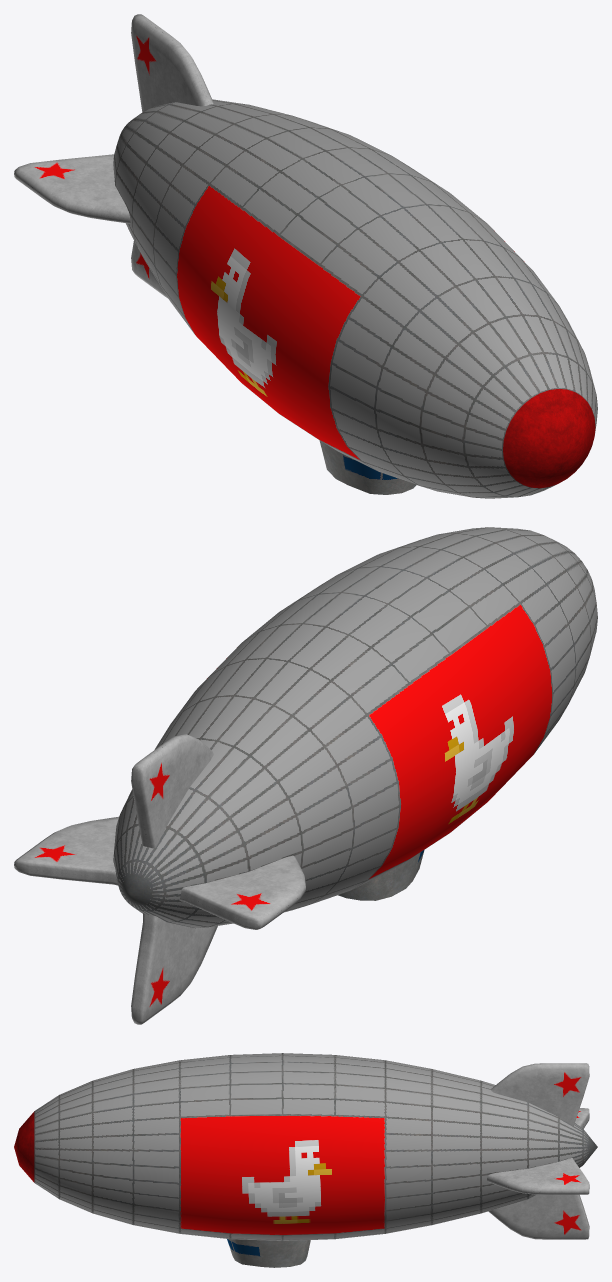
File: blimp.obj
3 views of the same model, one above another, from view 1: azimuth 30°, elevation 25°; view 2: azimuth 150°, elevation 25°; view 3: azimuth 270°, elevation 25° (orthographic). The views are drawn at different scales.
Parts seen in each view (by area): view 1: Sphere_Sphere.008, Cube.003_Cube.005, Cylinder; view 2: Sphere_Sphere.008, Cube.003_Cube.005, Cylinder; view 3: Sphere_Sphere.008, Cube.003_Cube.005, Cylinder.
Part boxes in pixels (x1,y1,x2,y2): Sphere_Sphere.008: [113, 99, 597, 498]; Cube.003_Cube.005: [14, 14, 213, 298]; Cylinder: [319, 440, 416, 494]; Sphere_Sphere.008: [113, 527, 597, 928]; Cube.003_Cube.005: [14, 734, 305, 1024]; Cylinder: [338, 850, 424, 900]; Sphere_Sphere.008: [14, 1053, 597, 1240]; Cube.003_Cube.005: [487, 1063, 589, 1239]; Cylinder: [227, 1239, 310, 1267].
Size of the model in its own units: 43.14 by 47.92 by 130.
